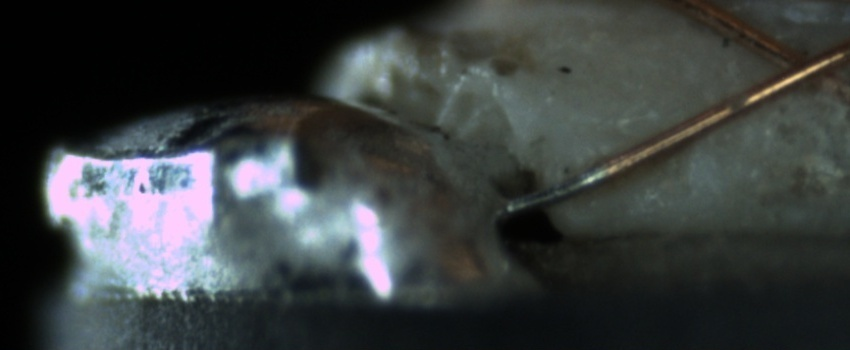CL: (752, 30, 844, 96)
TS: (500, 166, 607, 213)
